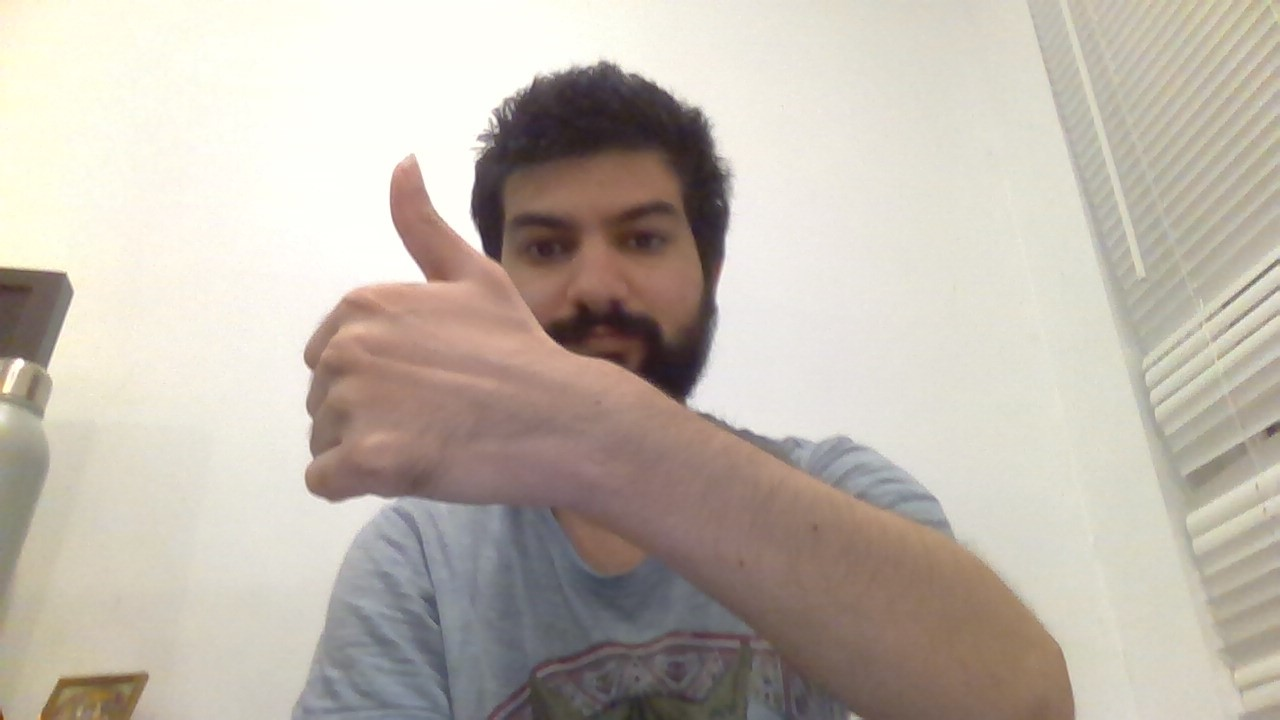up: (291, 148, 529, 502)
